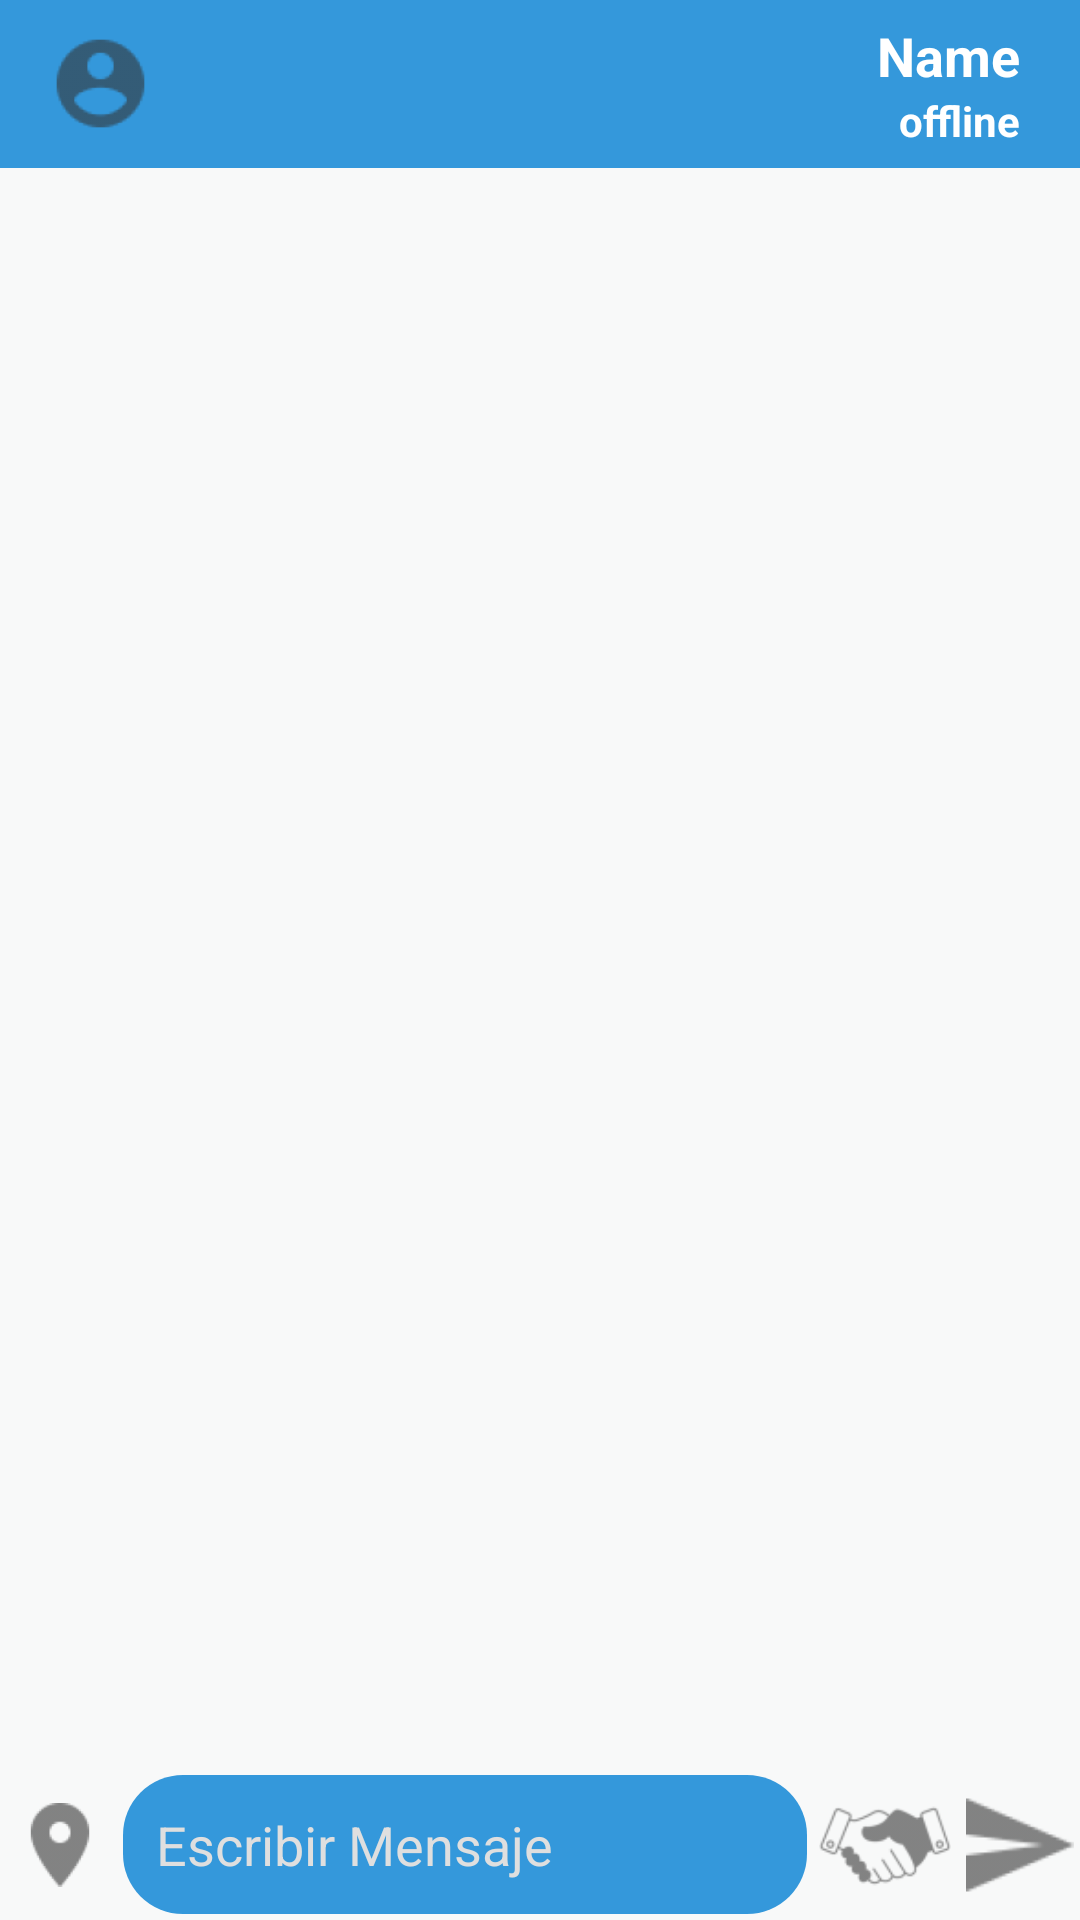

Icons on this 1080px x 1920px Android screen, each with the point to tap as point (x, y):
profile: point (100, 83)
